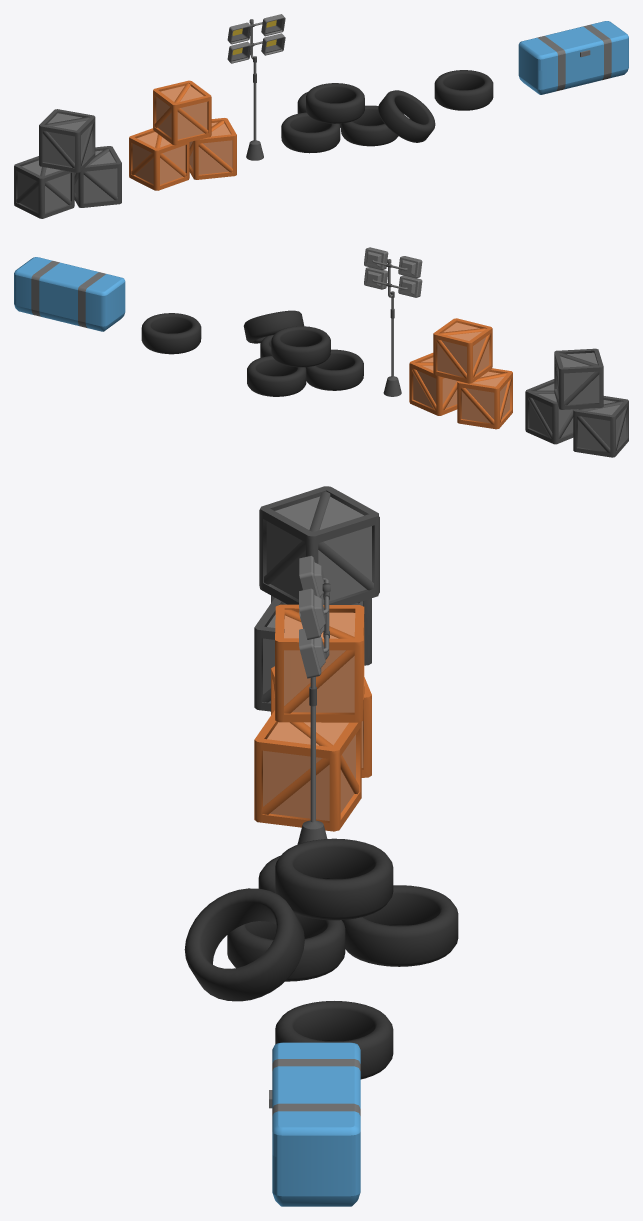
Rendered from env_upd.fbx.
The picture shows the model from 3 angles, top to bottom: view 1: azimuth 30°, elevation 25°; view 2: azimuth 150°, elevation 25°; view 3: azimuth 270°, elevation 25°; orthographic projection. The views are drawn at different scales.
Parts seen in each view (by area): view 1: boxes_w, boxes_m, tires, lootbox_head, lootbox, lamp, tire_solo; view 2: boxes_w, boxes_m, tires, lootbox_head, lootbox, lamp, tire_solo; view 3: tires, boxes_w, boxes_m, lootbox_head, tire_solo, lamp, lootbox.
Boxes of the visible parts, box(x1,y1,x2,y2) form: boxes_w: box(129, 80, 236, 190); boxes_m: box(14, 109, 121, 218); tires: box(281, 83, 435, 153); lootbox_head: box(518, 21, 628, 70); lootbox: box(518, 49, 628, 94); lamp: box(227, 14, 285, 160); tire_solo: box(434, 70, 493, 110); boxes_w: box(409, 318, 512, 429); boxes_m: box(525, 348, 628, 457); tires: box(243, 310, 363, 396); lootbox_head: box(14, 257, 125, 307); lootbox: box(14, 285, 125, 331); lamp: box(364, 247, 422, 396); tire_solo: box(141, 313, 201, 354); tires: box(184, 838, 458, 1001); boxes_w: box(254, 604, 371, 831); boxes_m: box(254, 486, 379, 711); lootbox_head: box(269, 1042, 360, 1157); tire_solo: box(275, 1001, 393, 1079); lamp: box(297, 555, 330, 844); lootbox: box(272, 1154, 360, 1206).
Bounding box in the file's own units: 933 × 207 × 185.
